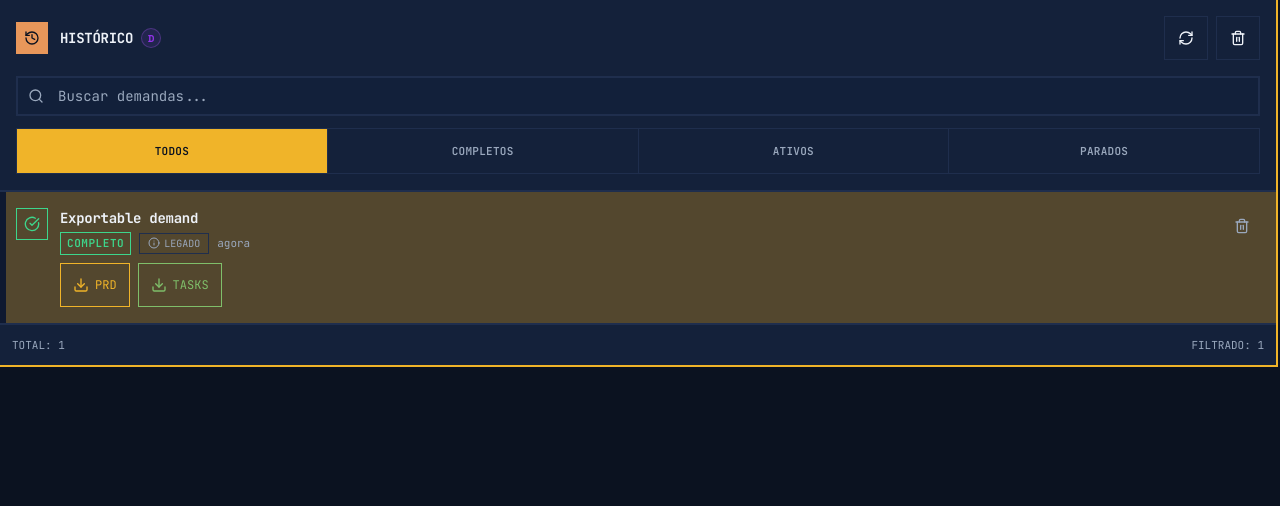
Scenario: HistorySidebar DocuMente result UI › renders safe actionable links returned by the backend
The image size is (1280, 506).
Click the button titled "Exportar PRDs para o DocuMente": (151, 38) top-left (141, 28), bottom-right (161, 48)
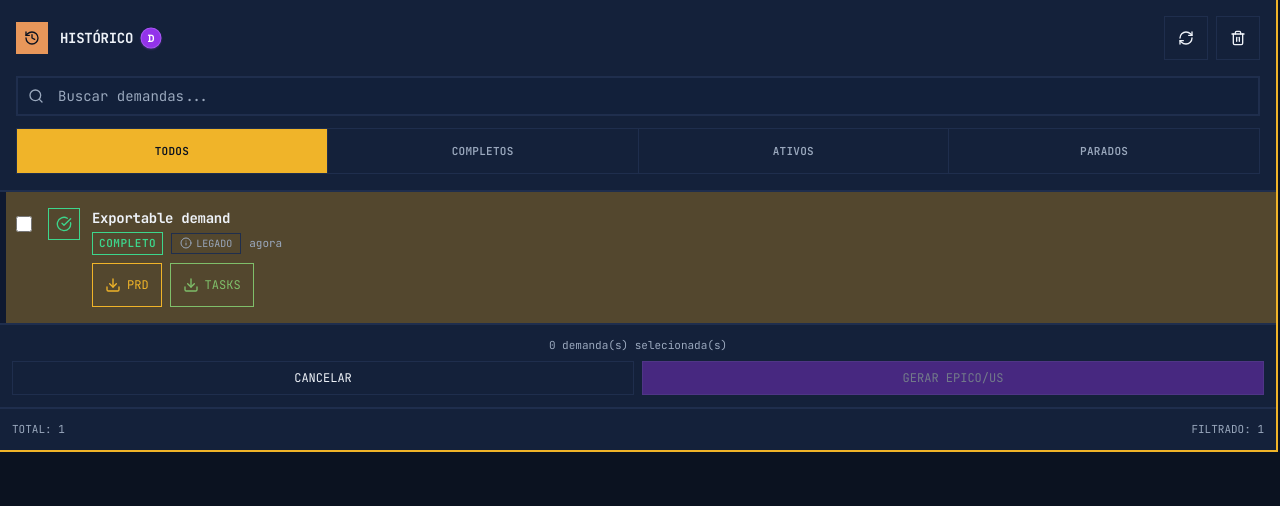
Click the checkbox: (24, 224) top-left (16, 216), bottom-right (32, 232)
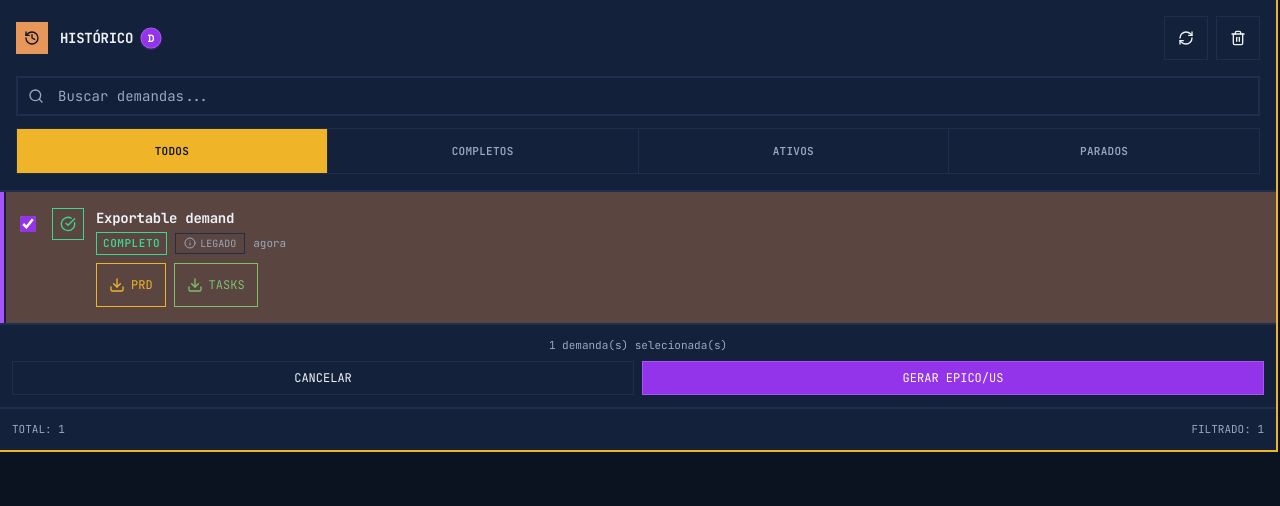
Click the button "GERAR EPICO/US": (953, 378) top-left (642, 361), bottom-right (1264, 395)
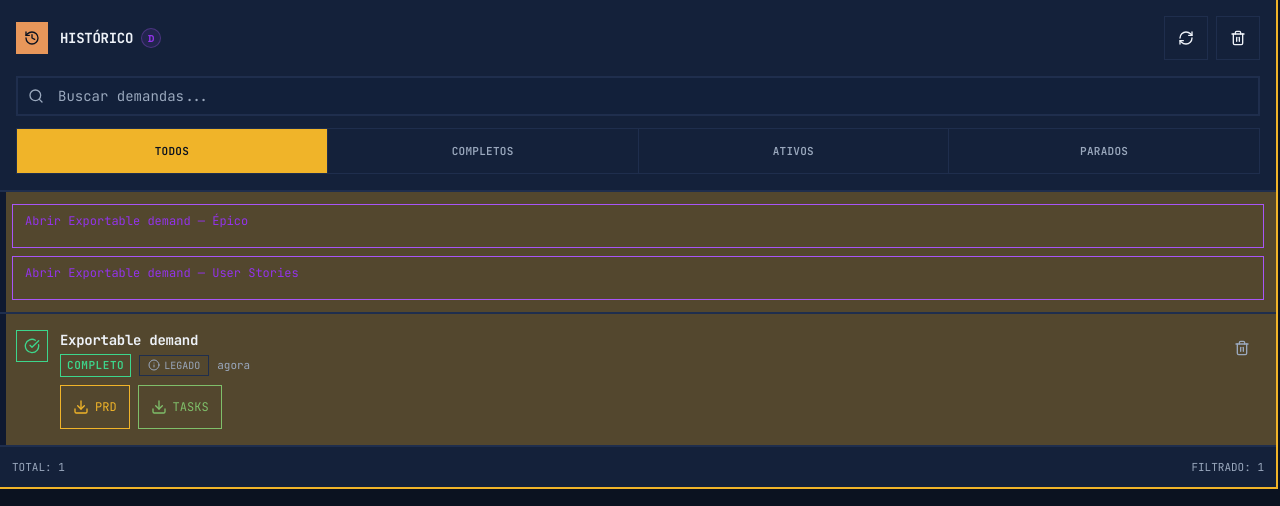
Now the number of links "Abrir Exportable demand — Épico" is 2, box top-left (12, 204), bottom-right (1264, 248); top-left (12, 256), bottom-right (1264, 300)
